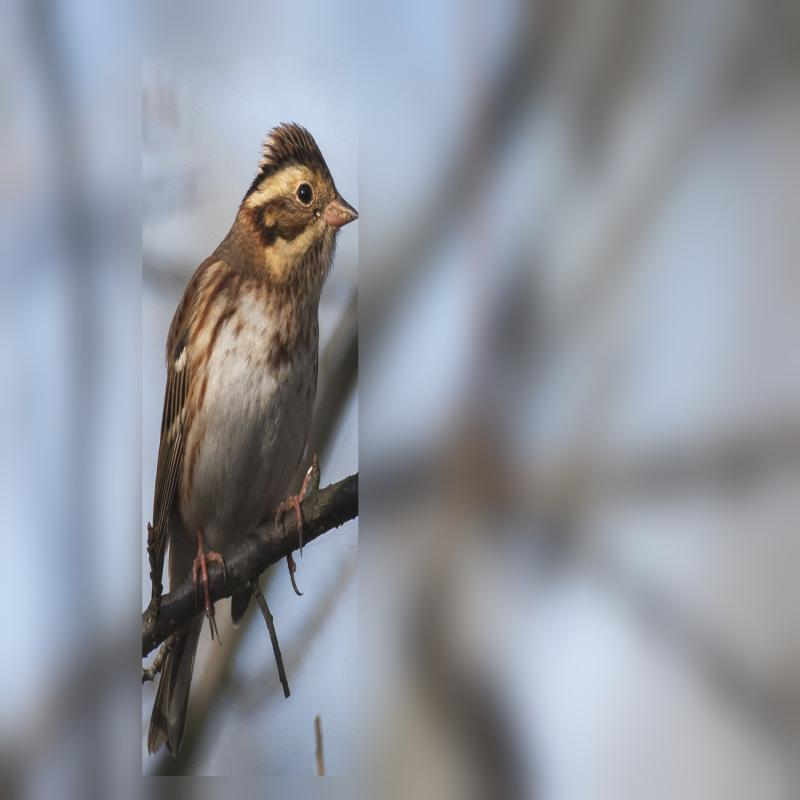rustic bunting: (140, 112, 358, 775)
